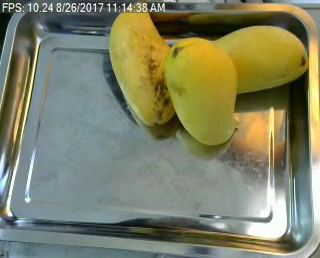Mango: (110, 1, 183, 124), (164, 37, 246, 144), (199, 26, 308, 97)
